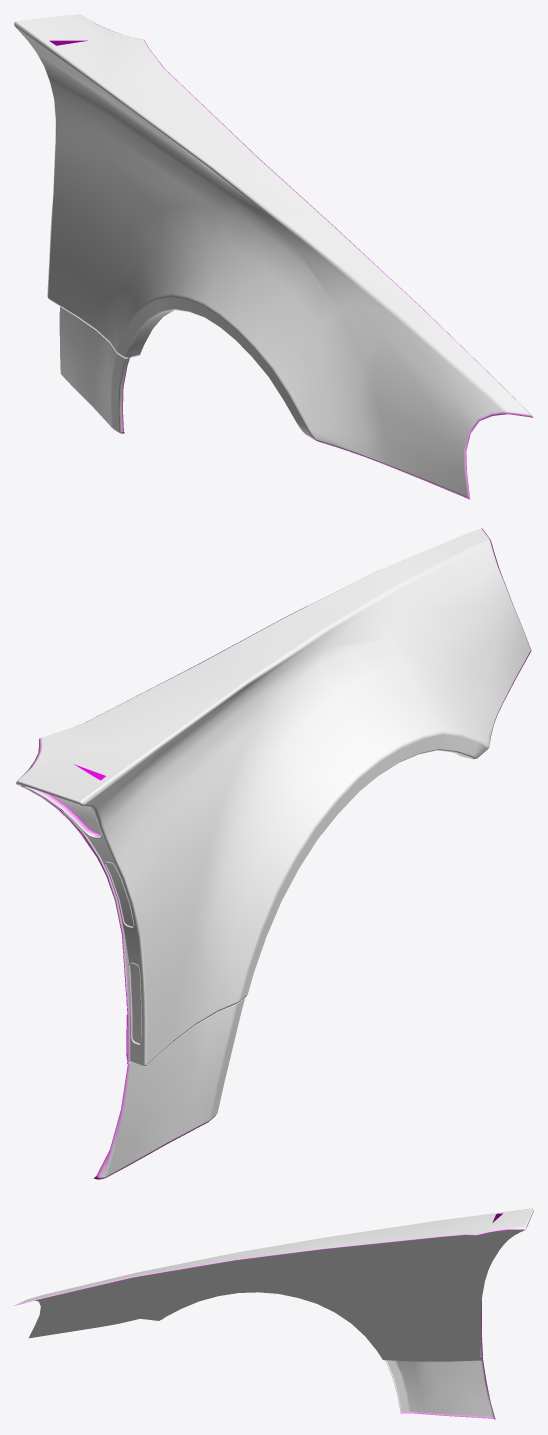
Rendered from Car_Nissan_SkylineGTRVspecR34_1999_FenderFR_SetE_AltA.fbx.
The picture shows the model from 3 angles, top to bottom: view 1: azimuth 30°, elevation 25°; view 2: azimuth 150°, elevation 25°; view 3: azimuth 270°, elevation 25°; orthographic projection. The views are drawn at different scales.
Visible parts, largest first — view 1: FenderFR 6; view 2: FenderFR 6; view 3: FenderFR 6.
Part boxes in pixels (bbox=[...]): FenderFR 6: bbox=[14, 14, 533, 499]; FenderFR 6: bbox=[16, 528, 531, 1179]; FenderFR 6: bbox=[14, 1208, 533, 1419].
Bounding box in the file's own units: 0.2093 × 0.5763 × 1.32.
